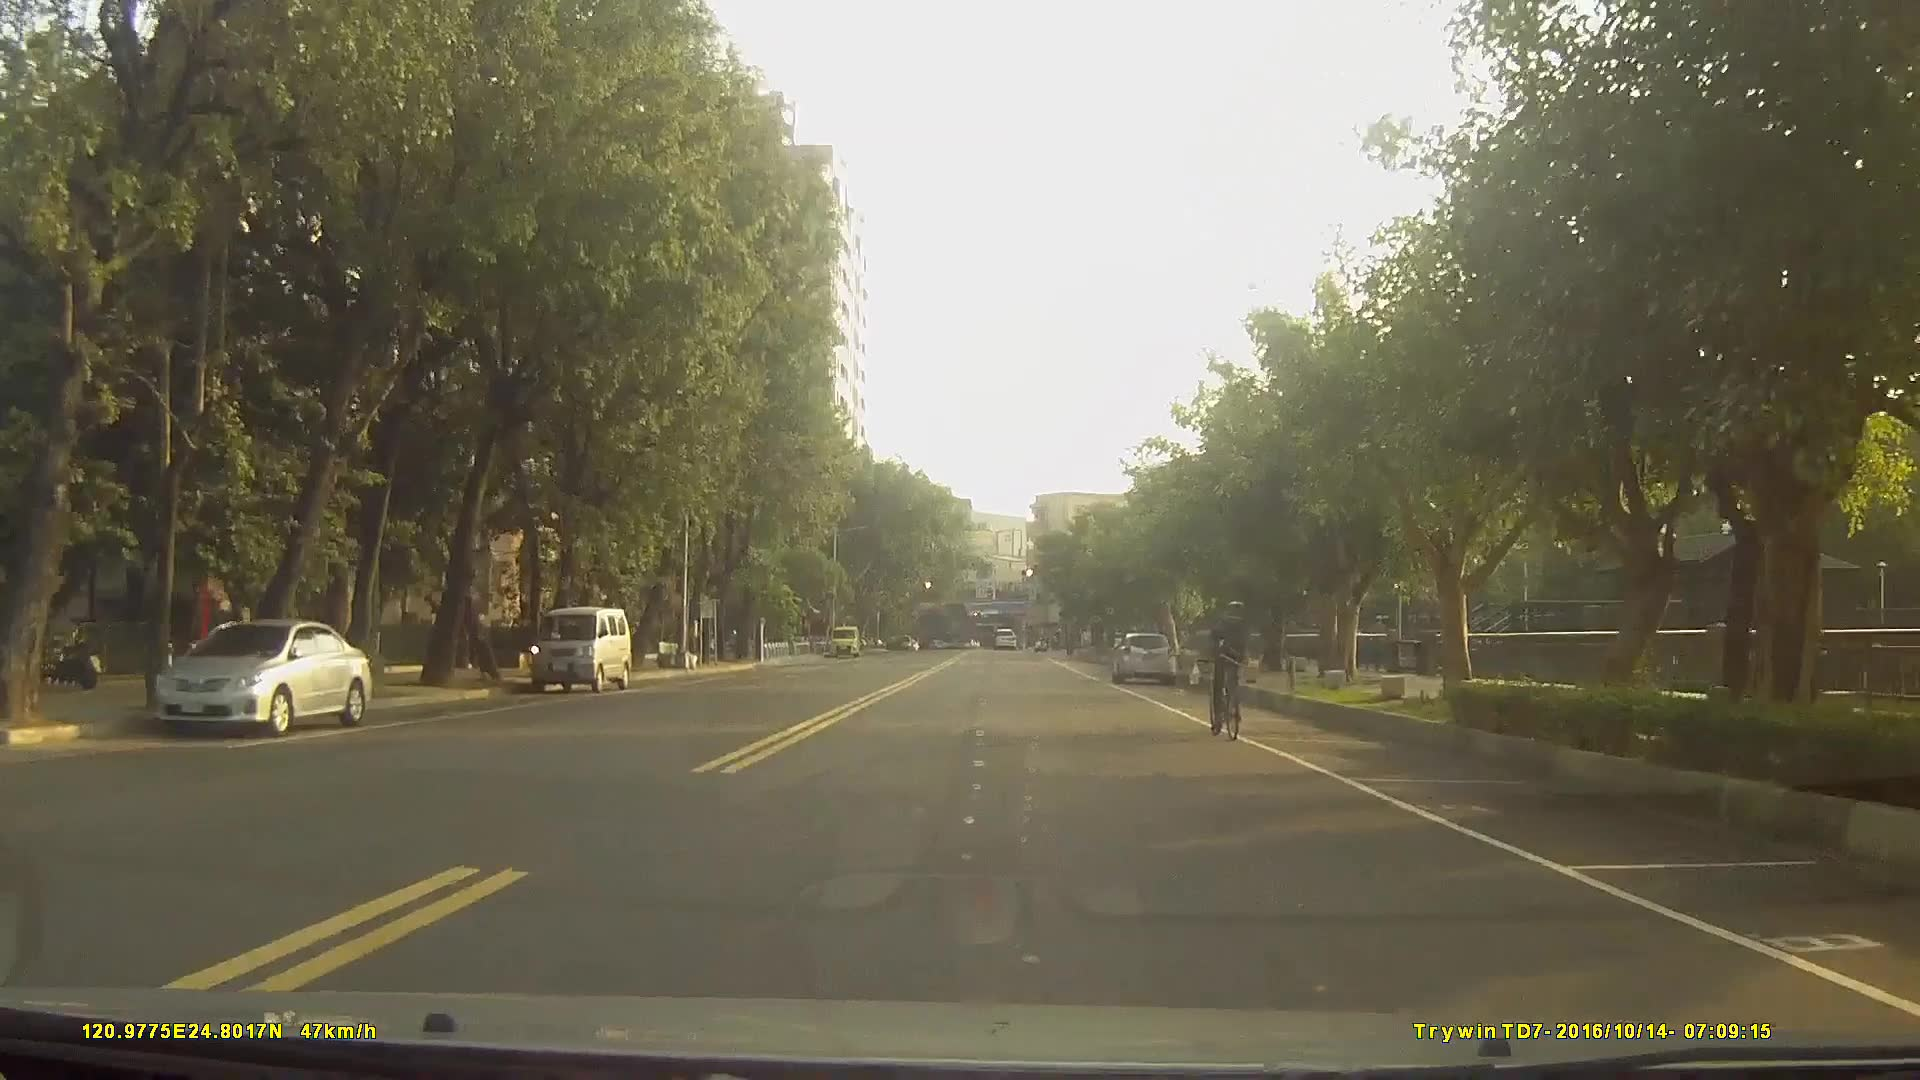rider: (1210, 595, 1251, 735)
vehicle: (151, 616, 373, 735), (529, 604, 632, 693), (1109, 630, 1179, 687), (990, 624, 1015, 650)
